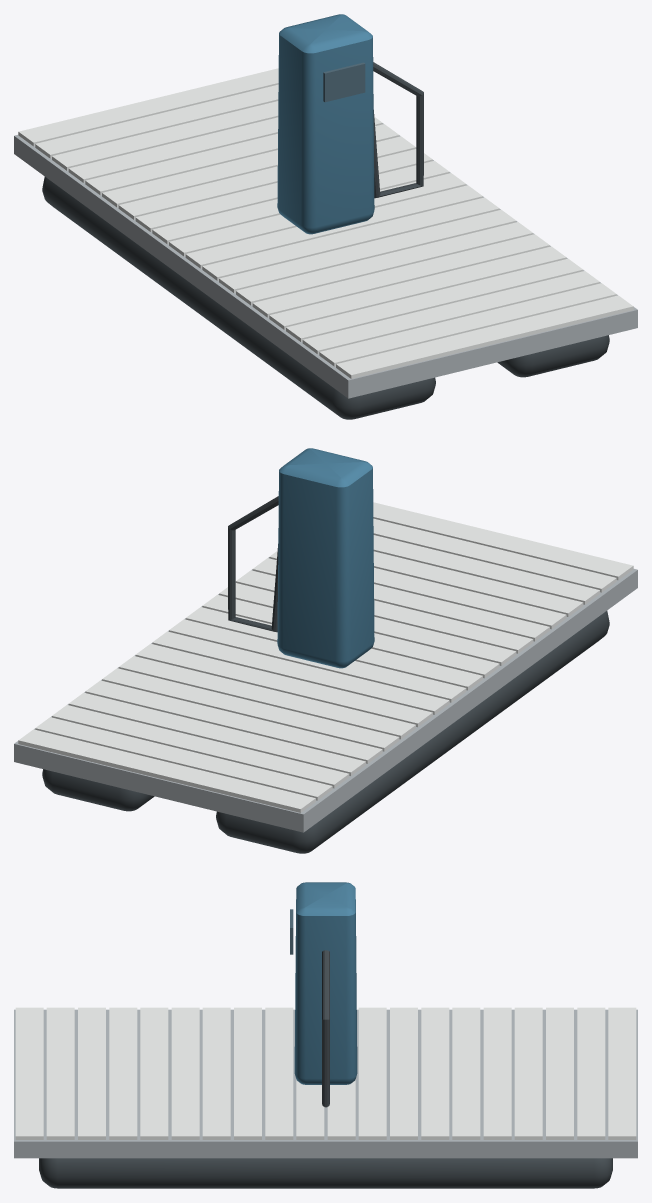
File: powerboat-racing-and-launch-ramp-fuel-dock-d8edcff9__22282.glb
The picture shows the model from 3 angles, top to bottom: view 1: azimuth 30°, elevation 25°; view 2: azimuth 150°, elevation 25°; view 3: azimuth 270°, elevation 25°; orthographic projection. The views are drawn at different scales.
Visible parts, largest first — view 1: fuel-dock; view 2: fuel-dock; view 3: fuel-dock.
Part boxes in pixels (left/top/right/bottom): fuel-dock: left=14, top=14, right=637, bottom=419; fuel-dock: left=14, top=448, right=637, bottom=853; fuel-dock: left=14, top=882, right=637, bottom=1188.
Size of the model in its own units: 2 by 1.68 by 4.
